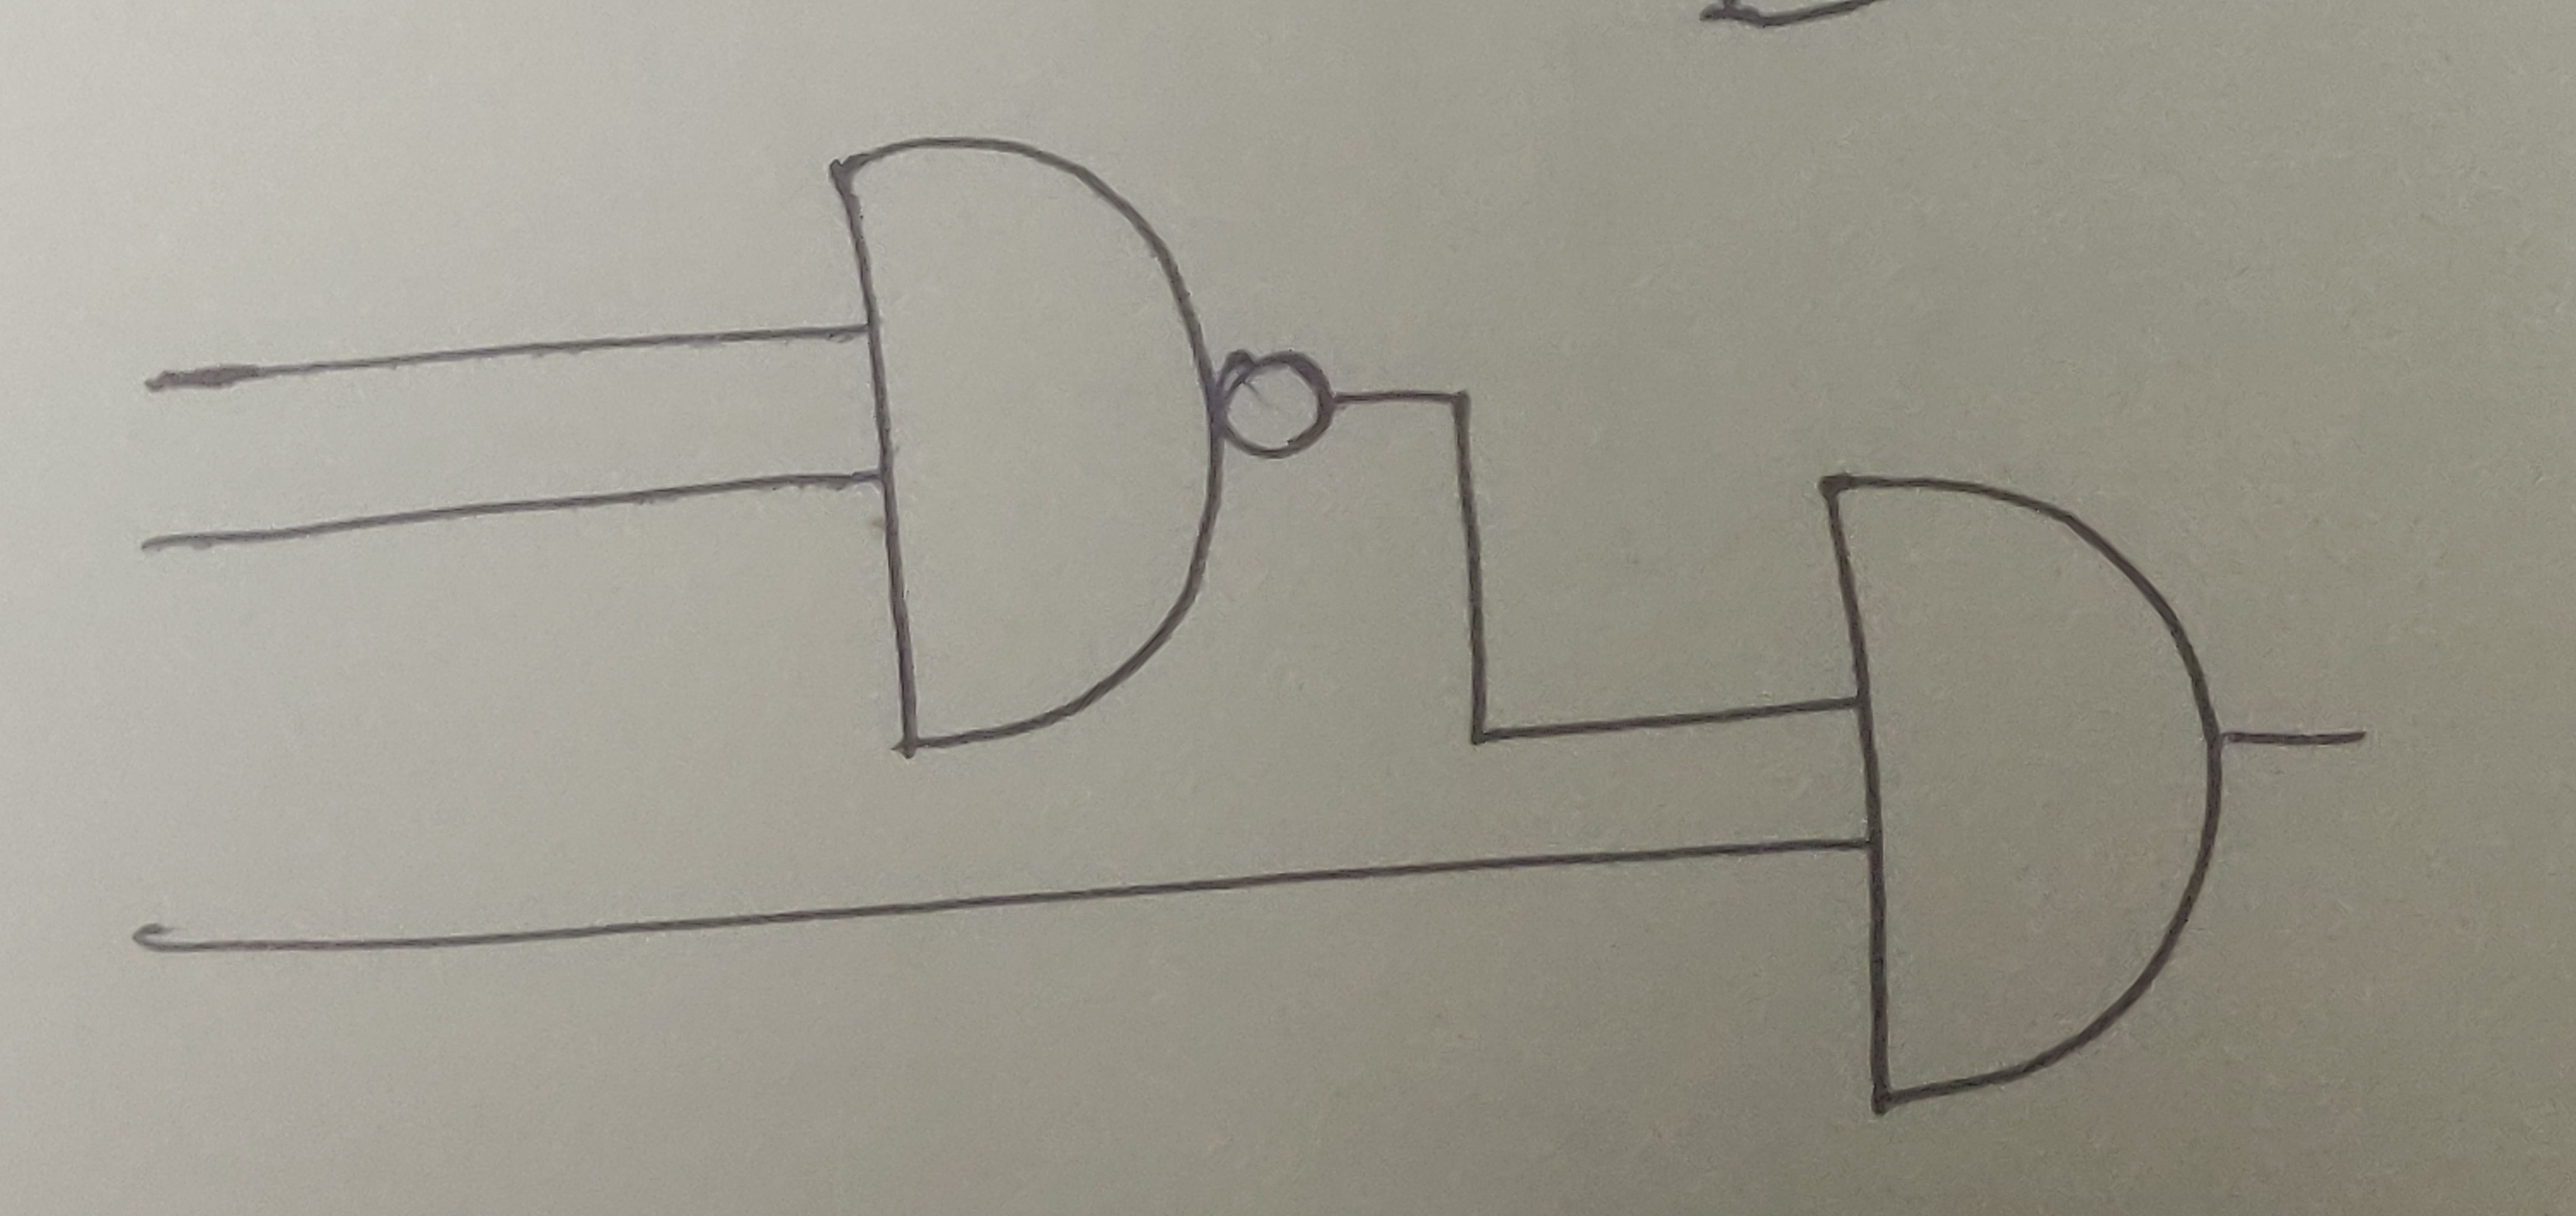and: (1814, 467, 2228, 1114), (817, 135, 1226, 759)
not: (1222, 355, 1341, 467)
